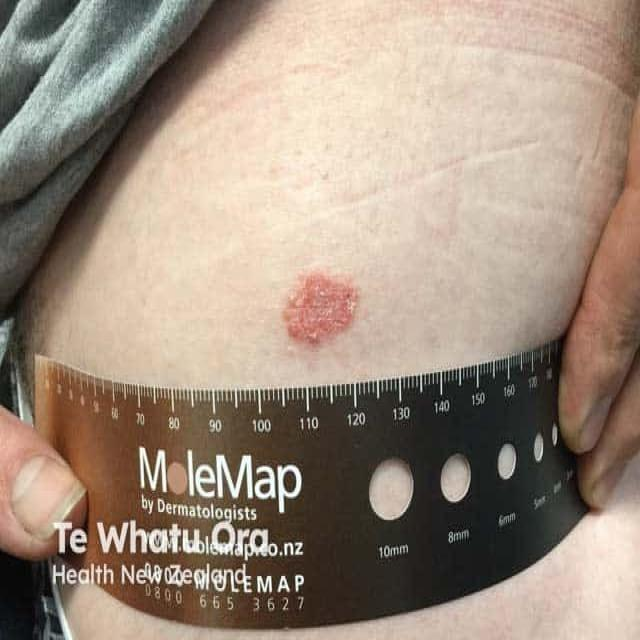Eczema: (286, 274, 366, 351)
